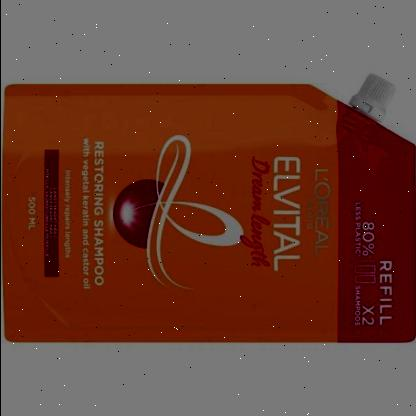Others: (0, 67, 416, 347)
